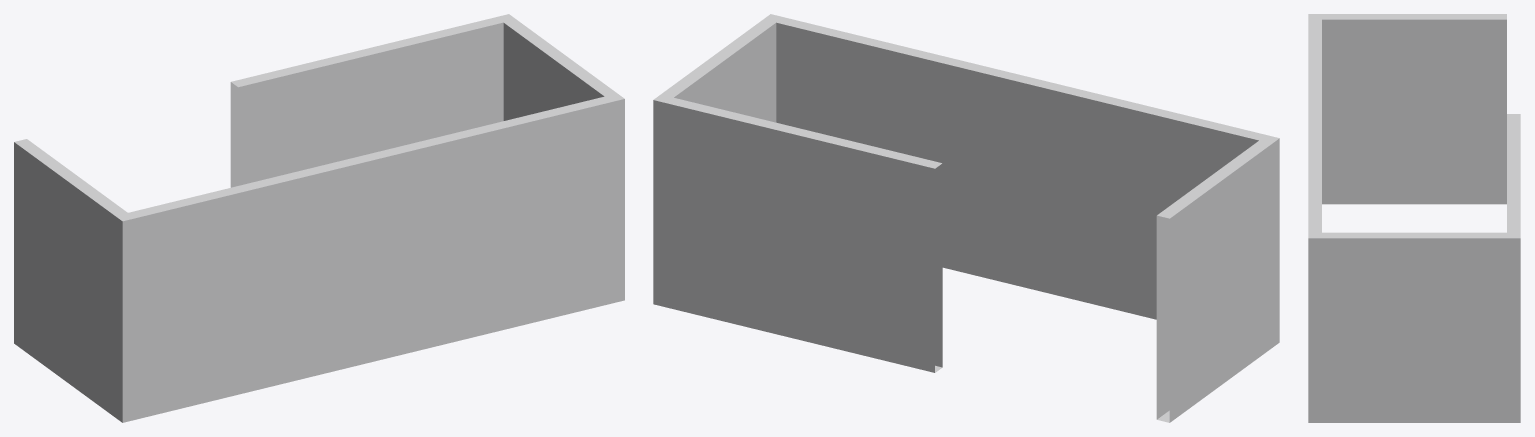
The model's file is LouDao-37.FBX.
The picture shows the model from 3 angles, left to right: view 1: azimuth 30°, elevation 25°; view 2: azimuth 150°, elevation 25°; view 3: azimuth 270°, elevation 25°; orthographic projection. The views are drawn at different scales.
Parts seen in each view (by area): view 1: LouDao-37; view 2: LouDao-37; view 3: LouDao-37.
Boxes of the visible parts, bbox=[...] form: LouDao-37: bbox=[14, 14, 624, 422]; LouDao-37: bbox=[653, 14, 1279, 422]; LouDao-37: bbox=[1308, 14, 1520, 422].
Bounding box in the file's own units: 8606 × 3300 × 3440.
